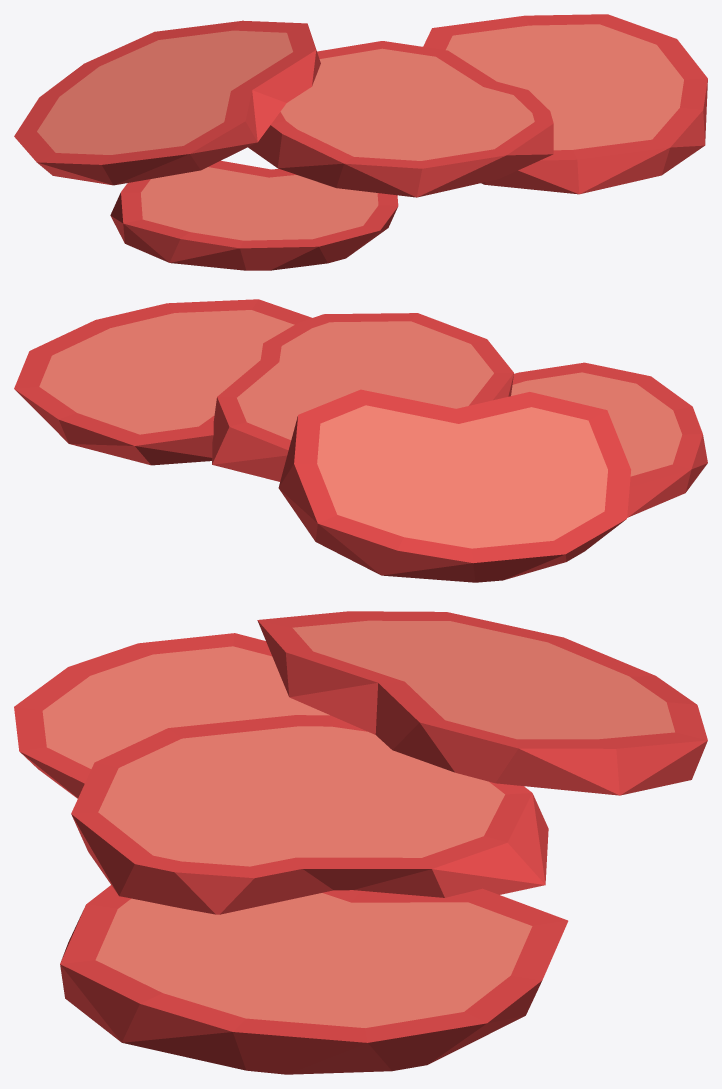
Rendered from SM_Tomato_Sliced.fbx.
3 views of the same model, one above another, from view 1: azimuth 30°, elevation 25°; view 2: azimuth 150°, elevation 25°; view 3: azimuth 270°, elevation 25° (orthographic). The views are drawn at different scales.
Visible parts, largest first — view 1: sliced tomato; view 2: sliced tomato; view 3: sliced tomato.
Part boxes in pixels (left/top/right/bottom): sliced tomato: left=14, top=14, right=707, bottom=270; sliced tomato: left=14, top=299, right=707, bottom=582; sliced tomato: left=14, top=611, right=707, bottom=1074.
Size of the model in its own units: 66.78 by 9.51 by 46.3.
